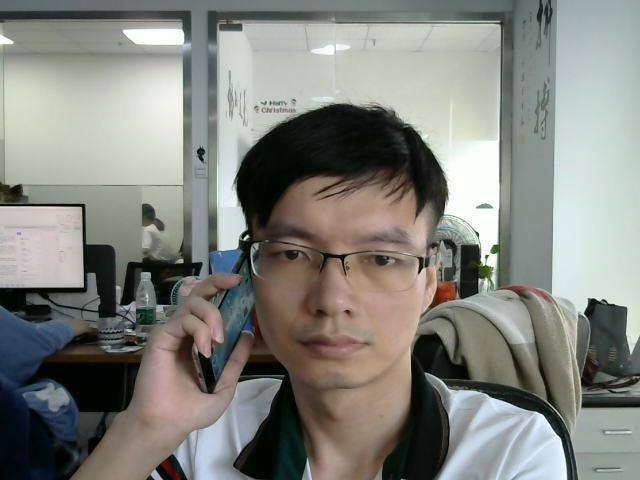hand: (136, 278, 246, 428)
